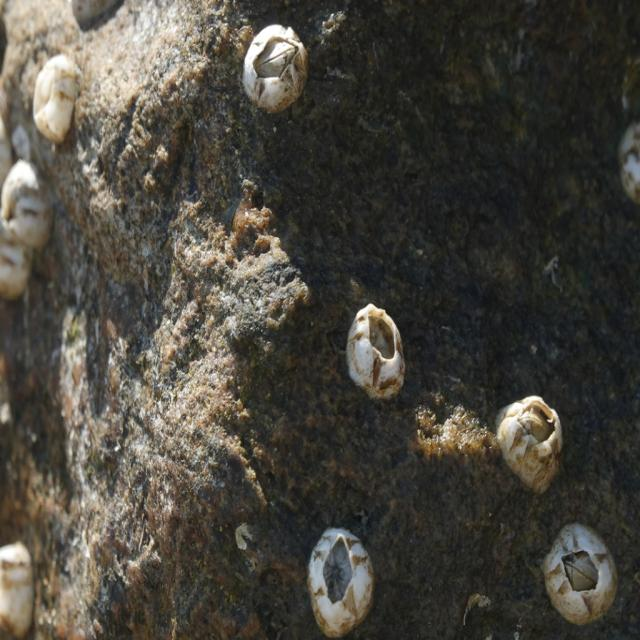barnacles: (226, 16, 316, 132), (303, 514, 368, 637), (539, 522, 622, 615), (500, 387, 574, 491), (345, 301, 411, 412), (0, 154, 57, 259), (23, 48, 82, 144)
